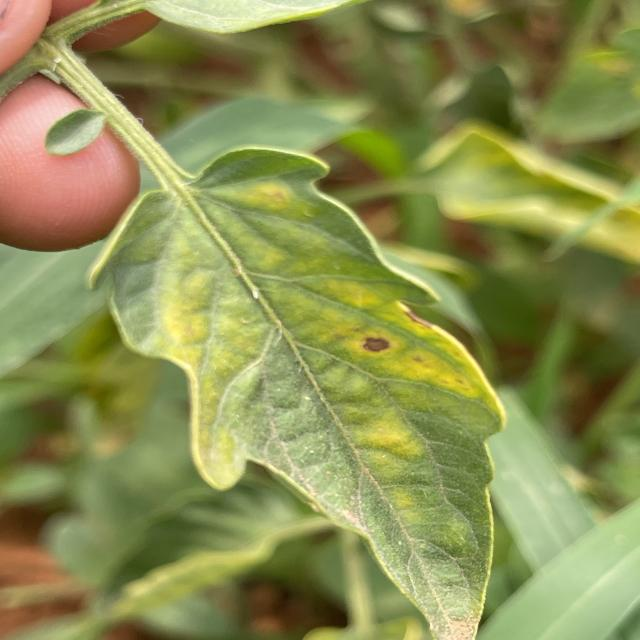tomato_early blight: (89, 146, 506, 640), (428, 122, 640, 264)
